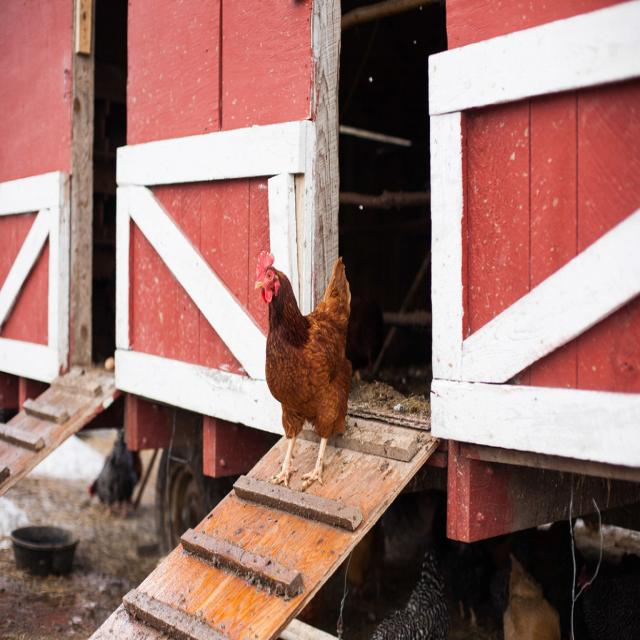Chicken: (263, 232, 358, 485)
